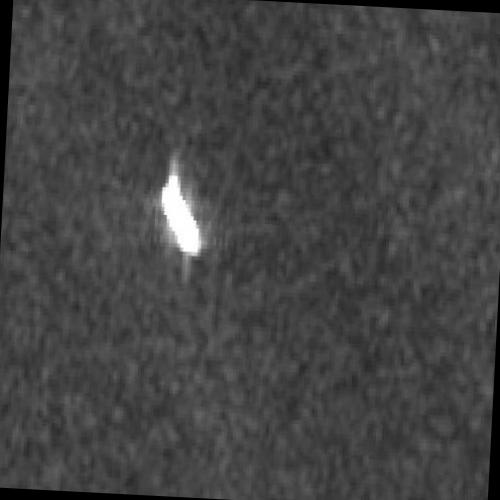ship: (161, 169, 201, 255)
